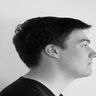ear: (43, 38, 64, 63)
